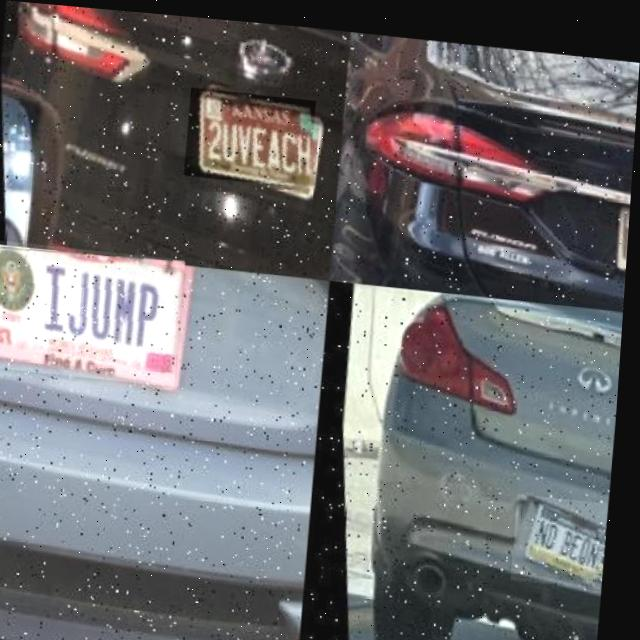LicensePlate: (0, 247, 188, 382), (190, 83, 312, 182), (520, 485, 613, 576)
